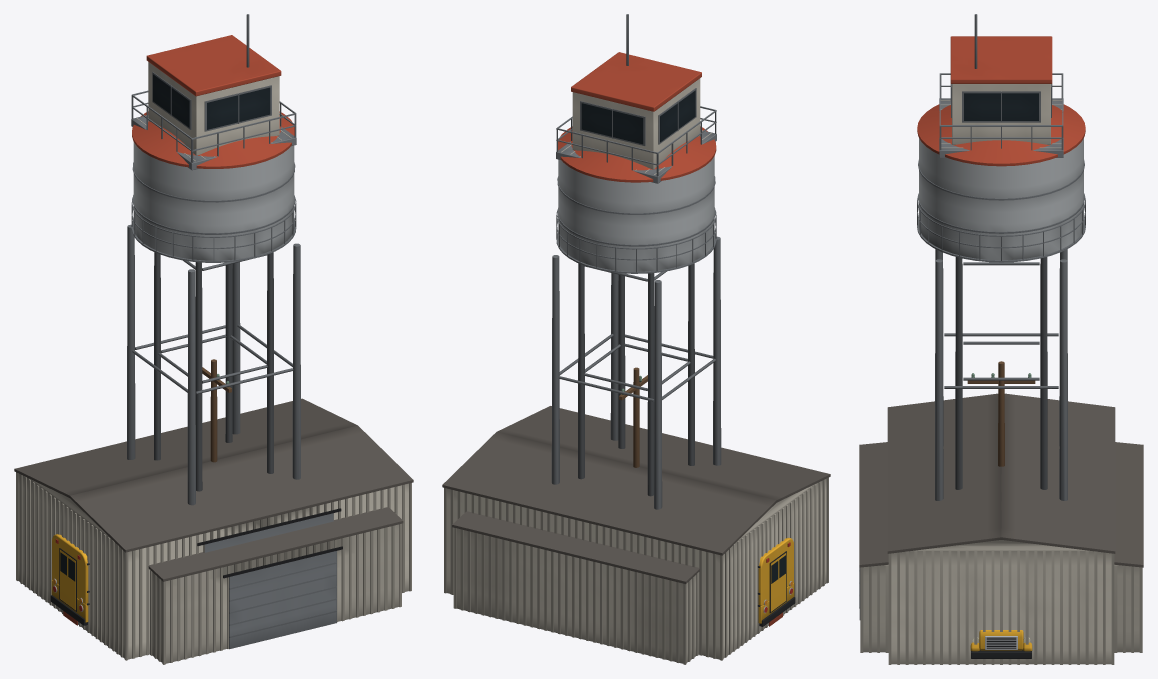
The model's file is survival-town.glb.
The picture shows the model from 3 angles, left to right: view 1: azimuth 30°, elevation 25°; view 2: azimuth 150°, elevation 25°; view 3: azimuth 270°, elevation 25°; orthographic projection. The views are drawn at different scales.
Visible parts, largest first — view 1: hangar-a, water-tower, hangar-b, instrument-tower, bus, power-pole; view 2: hangar-a, water-tower, hangar-b, instrument-tower, bus, power-pole; view 3: hangar-a, water-tower, instrument-tower, hangar-b, bus, power-pole.
Part boxes in pixels (x1,y1,x2,y2): hangar-a: (14,398,413,660); water-tower: (127,111,300,505); hangar-b: (148,507,403,664); instrument-tower: (131,14,296,491); bus: (50,534,89,625); power-pole: (202,359,231,462); hangar-a: (442,406,830,660); water-tower: (551,126,721,509); hangar-b: (452,511,699,664); instrument-tower: (556,14,716,496); bus: (757,537,795,626); power-pole: (619,367,647,467); hangar-a: (887,393,1115,664); water-tower: (917,104,1085,500); instrument-tower: (939,14,1063,489); hangar-b: (859,442,1143,652); bus: (970,630,1032,658); power-pole: (967,361,1035,466).
Size of the model in its own units: 12.29 by 23.02 by 10.06.
